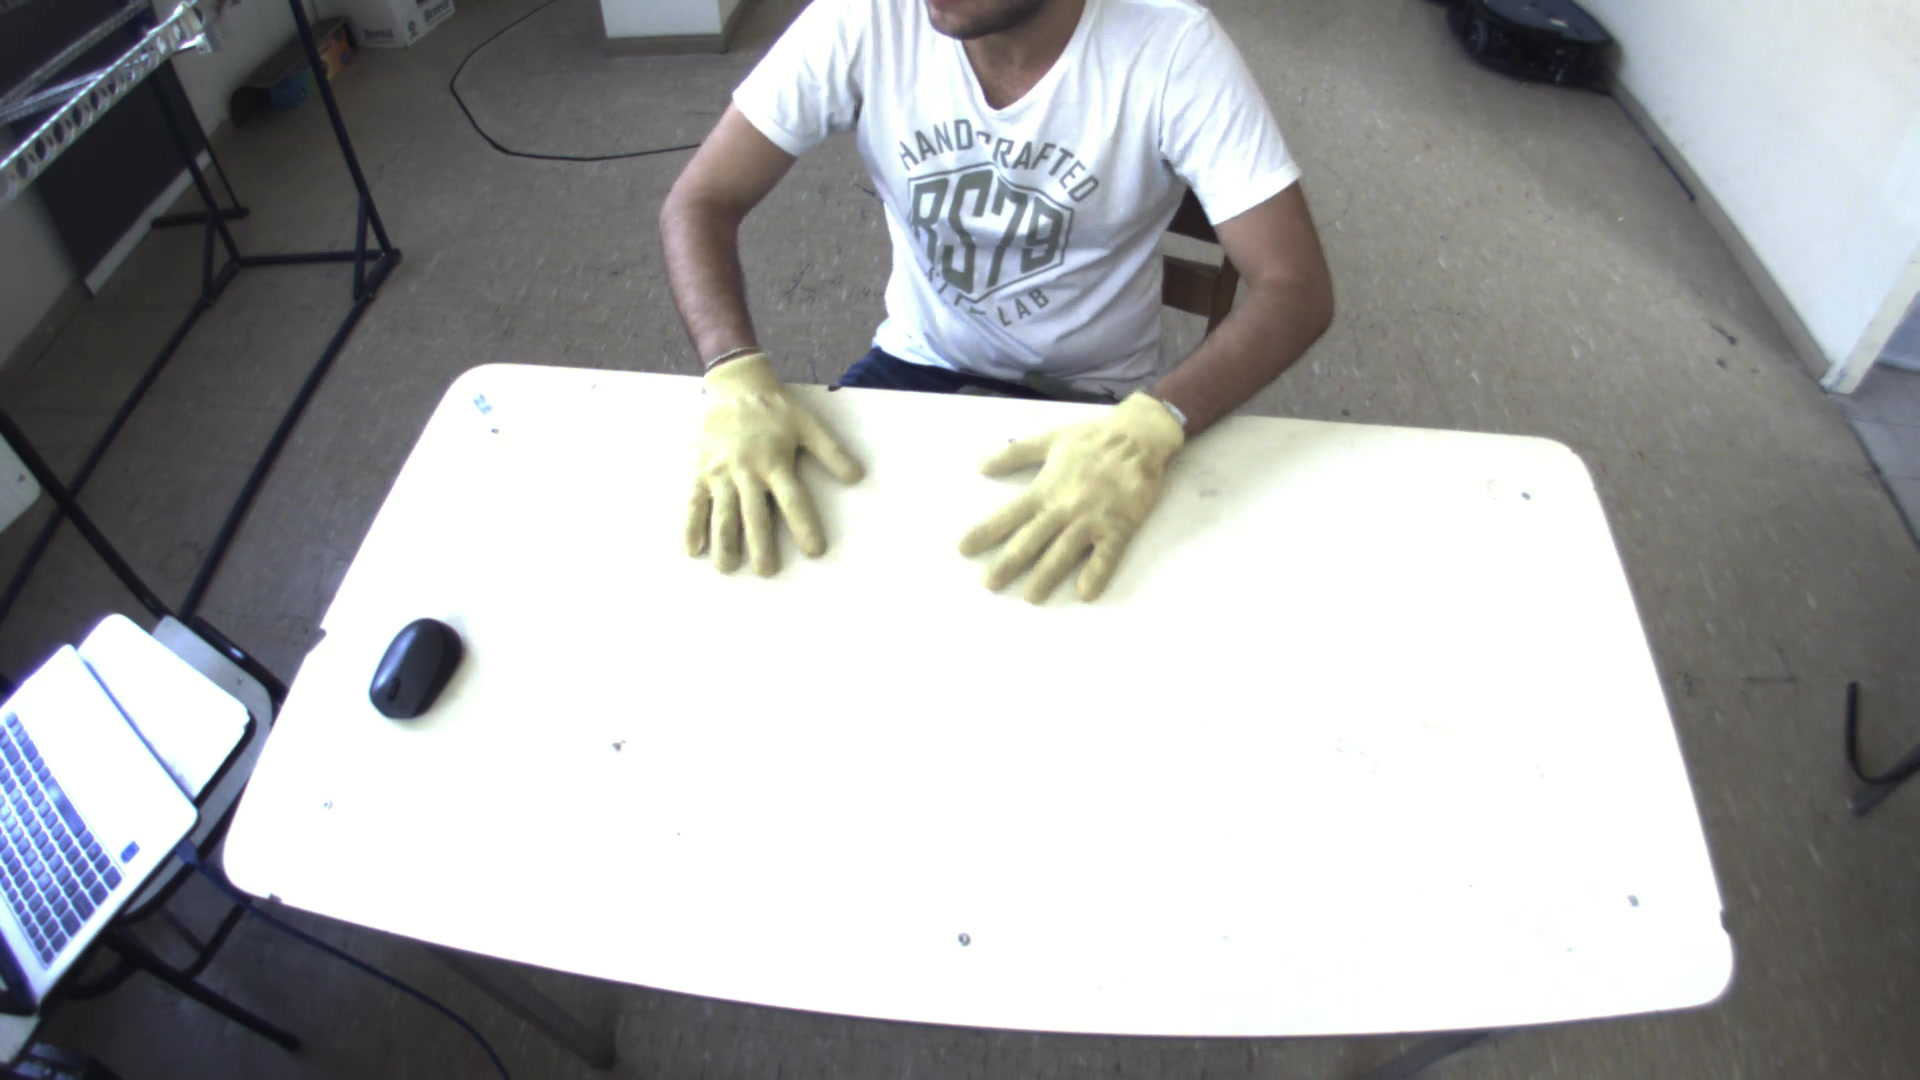hand: (948, 371, 1191, 615), (669, 334, 872, 582)
